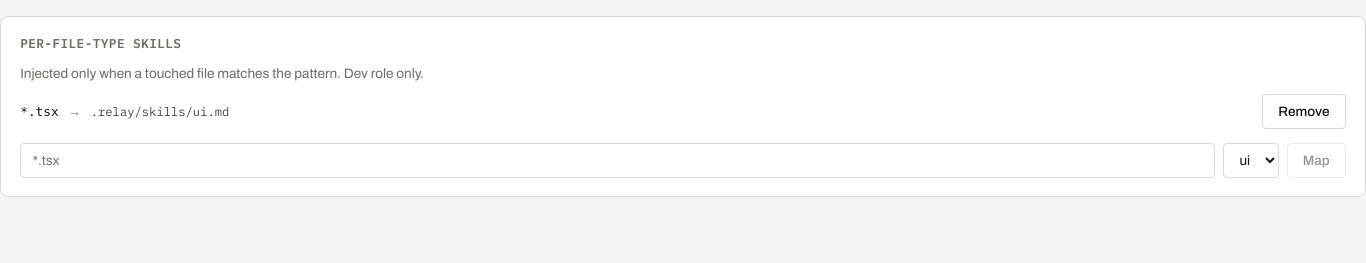
TypeSkills › a refusal is surfaced
This screenshot has width=1366, height=263.
Click the button "Remove" at (1304, 112), box [1262,94,1346,129]
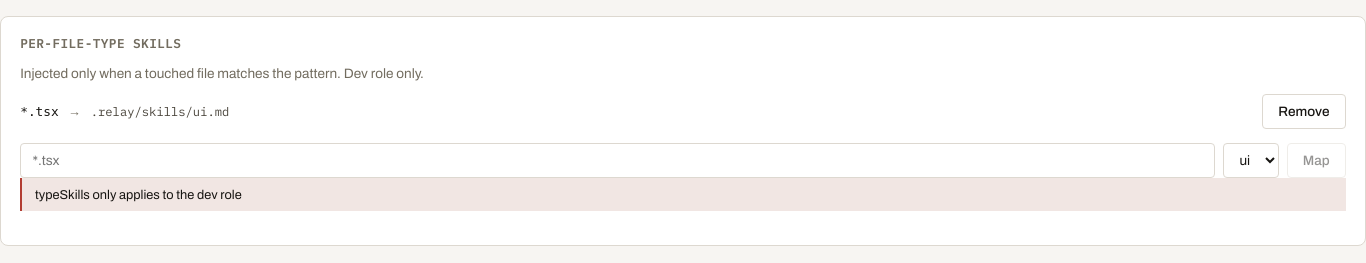
expect the text "typeSkills only applies to the dev role" is shown: met, box [20,178,1346,211]
